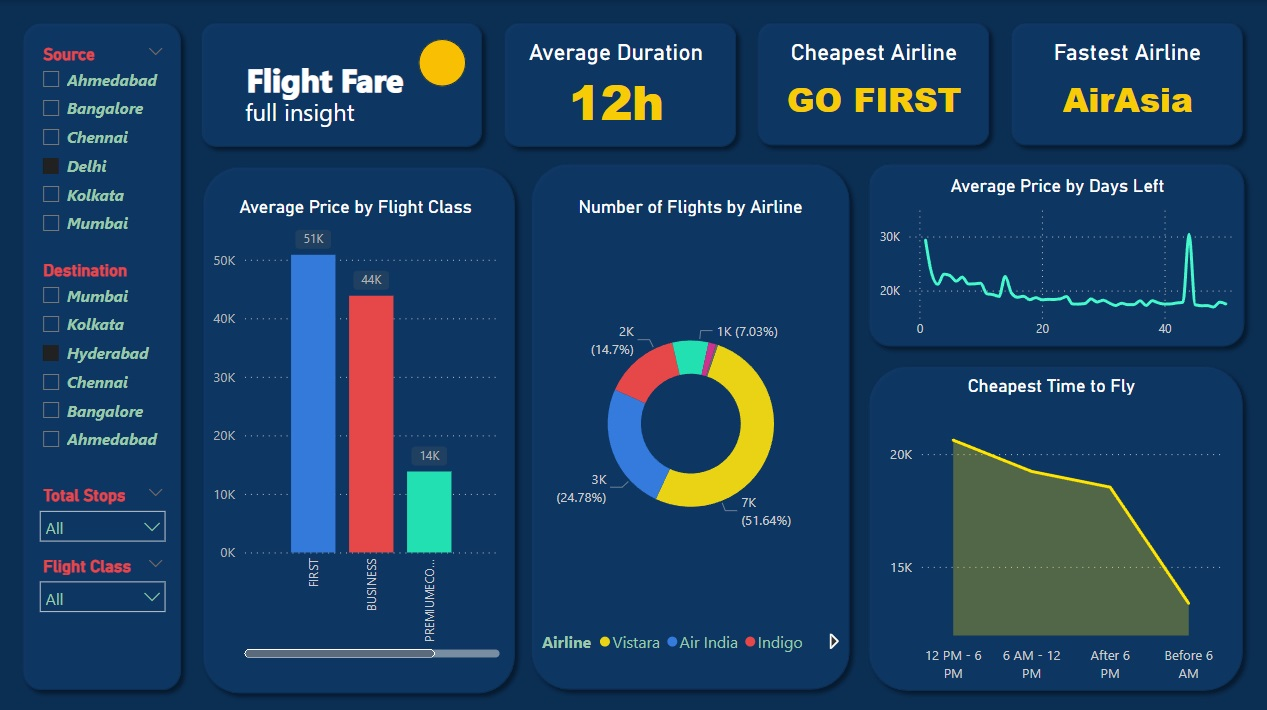

This screenshot's page, from the dashboard's own definition file:
{"tool":"powerbi","page":{"name":"Page 1","canvas":[1280,720],"ordinal":0},"visuals":[{"type":"shape","box":[14,14,178,692],"z":0},{"type":"shape","box":[194.6,13.2,301.7,143.4],"z":1000},{"type":"shape","box":[499.6,13.2,252.3,143.4],"z":2000},{"type":"shape","box":[756,14,252,142],"z":3000},{"type":"shape","box":[1012,14,252,142],"z":4000},{"type":"shape","box":[195,158.3,333.3,550],"z":5000},{"type":"shape","box":[527.6,156.6,339.7,549],"z":6000},{"type":"shape","box":[867.3,156.6,397.4,202.8],"z":7000},{"type":"shape","box":[868,360,396,346],"z":8000},{"type":"textbox","box":[178.1,52.8,298.4,75.8],"z":9000},{"type":"textbox","box":[242.4,90.7,253.9,56.1],"z":10000},{"type":"shape","box":[422,40,48,48],"z":11000},{"type":"card","title":"Average Duration","fields":{"Values":["cleaned_dataset.Avg_Duration"]},"box":[506,40,232,96],"z":12000},{"type":"card","title":"Cheapest Airline","fields":{"Values":["cleaned_dataset.Cheapest_Airline"]},"box":[766,40,232,96],"z":13000},{"type":"card","title":"Fastest Airline","fields":{"Values":["cleaned_dataset.Fastest_Airline"]},"box":[1022,40,232,96],"z":14000},{"type":"slicer","fields":{"Values":["cleaned_dataset.Source"]},"box":[29.7,39.6,146.7,234.1],"z":15000},{"type":"slicer","fields":{"Values":["cleaned_dataset.Destination"]},"box":[29.7,257.2,146.7,242.4],"z":16000},{"type":"slicer","fields":{"Values":["cleaned_dataset.Total Stops"]},"box":[29.7,484.7,146.7,69.2],"z":17000},{"type":"slicer","fields":{"Values":["cleaned_dataset.Flight Class"]},"box":[29.7,555.6,146.7,70.9],"z":18000},{"type":"columnChart","title":"Average Price by Flight Class","fields":{"Category":["cleaned_dataset.Flight Class"],"Y":["cleaned_dataset.Avg_price"]},"box":[208.3,198.3,300,470],"z":19000},{"type":"stackedAreaChart","title":" Cheapest Time to Fly ","fields":{"Category":["cleaned_dataset.Departure"],"Y":["cleaned_dataset.Avg_price"]},"box":[881.7,378.3,360,316.7],"z":20000},{"type":"donutChart","title":"Number of Flights by Airline","fields":{"Y":["cleaned_dataset.Number of Flights by Airline"],"Category":["cleaned_dataset.Airline"]},"box":[542.5,197.9,310,469.9],"z":21000},{"type":"lineChart","title":"Average Price by Days Left","fields":{"Category":["cleaned_dataset.Days_left"],"Y":["cleaned_dataset.Avg_price"]},"box":[882.1,176.4,369.3,173.1],"z":22000}]}

Visuals, with their boxes in screenshot pixels (x1, y1, x2, y2), scaled from the page's 1280x720 canvas onto the 1267x710 screenshot:
shape: 14,14,190,696
shape: 193,13,491,154
shape: 495,13,744,154
shape: 748,14,998,154
shape: 1002,14,1251,154
shape: 193,156,523,698
shape: 522,154,858,696
shape: 858,154,1252,354
shape: 859,355,1251,696
textbox: 176,52,472,127
textbox: 240,89,491,145
shape: 418,39,465,87
"Average Duration" card: 501,39,731,134
"Cheapest Airline" card: 758,39,988,134
"Fastest Airline" card: 1012,39,1241,134
slicer - cleaned_dataset.Source: 29,39,175,270
slicer - cleaned_dataset.Destination: 29,254,175,493
slicer - cleaned_dataset.Total Stops: 29,478,175,546
slicer - cleaned_dataset.Flight Class: 29,548,175,618
"Average Price by Flight Class" columnChart: 206,196,503,659
" Cheapest Time to Fly " stackedAreaChart: 873,373,1229,685
"Number of Flights by Airline" donutChart: 537,195,844,659
"Average Price by Days Left" lineChart: 873,174,1239,345
